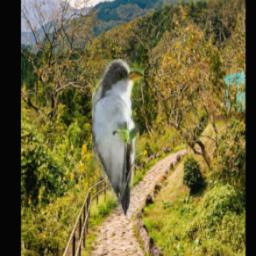Cuckoo: (91, 59, 143, 216)
